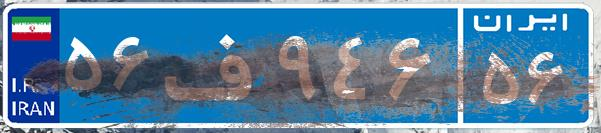4: (330, 28, 385, 110)
5: (57, 26, 110, 107), (475, 38, 525, 113)
6: (385, 28, 445, 110), (110, 28, 158, 105), (525, 38, 570, 115)
9: (273, 28, 330, 110)
ف: (158, 15, 273, 115)
